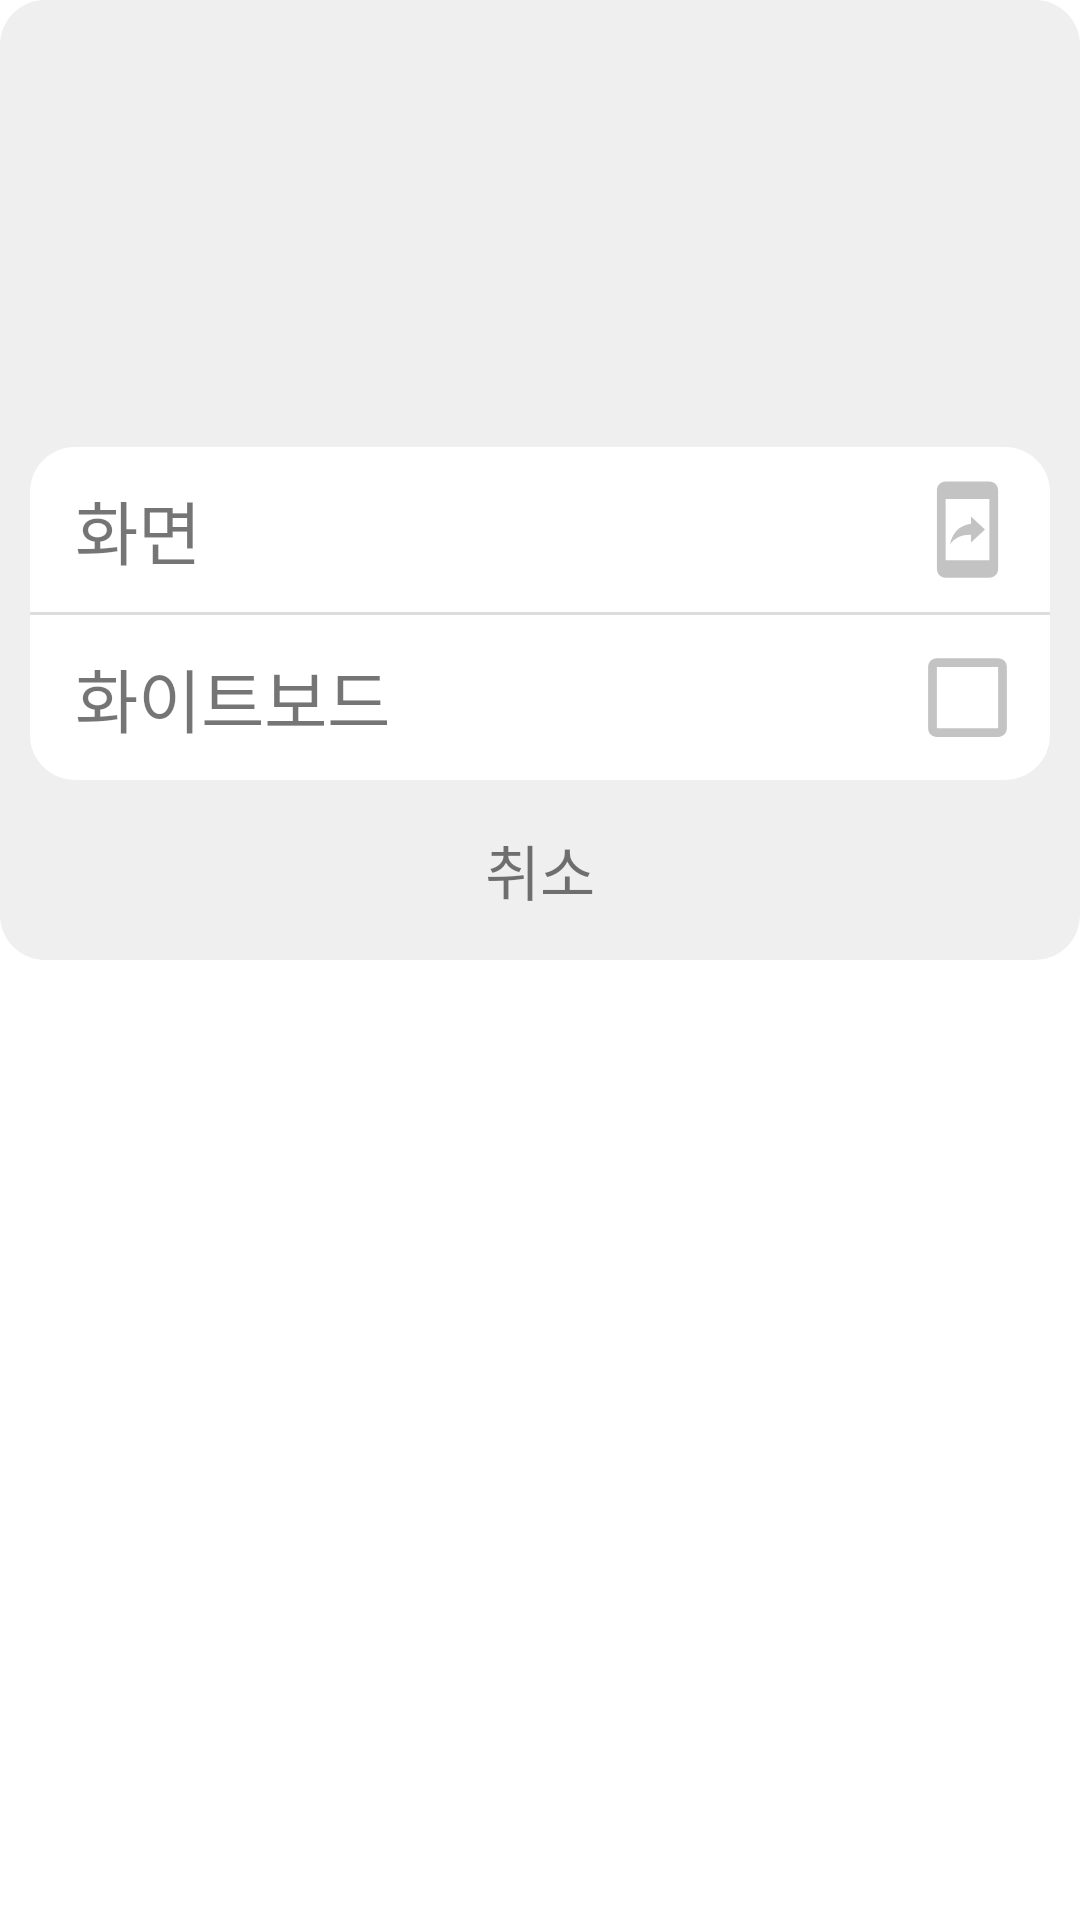

Icons on this 1080*1920 Android screen, each with the point to tap as [x,y]:
alert dialog meetingroom screenshare: [967,529]
